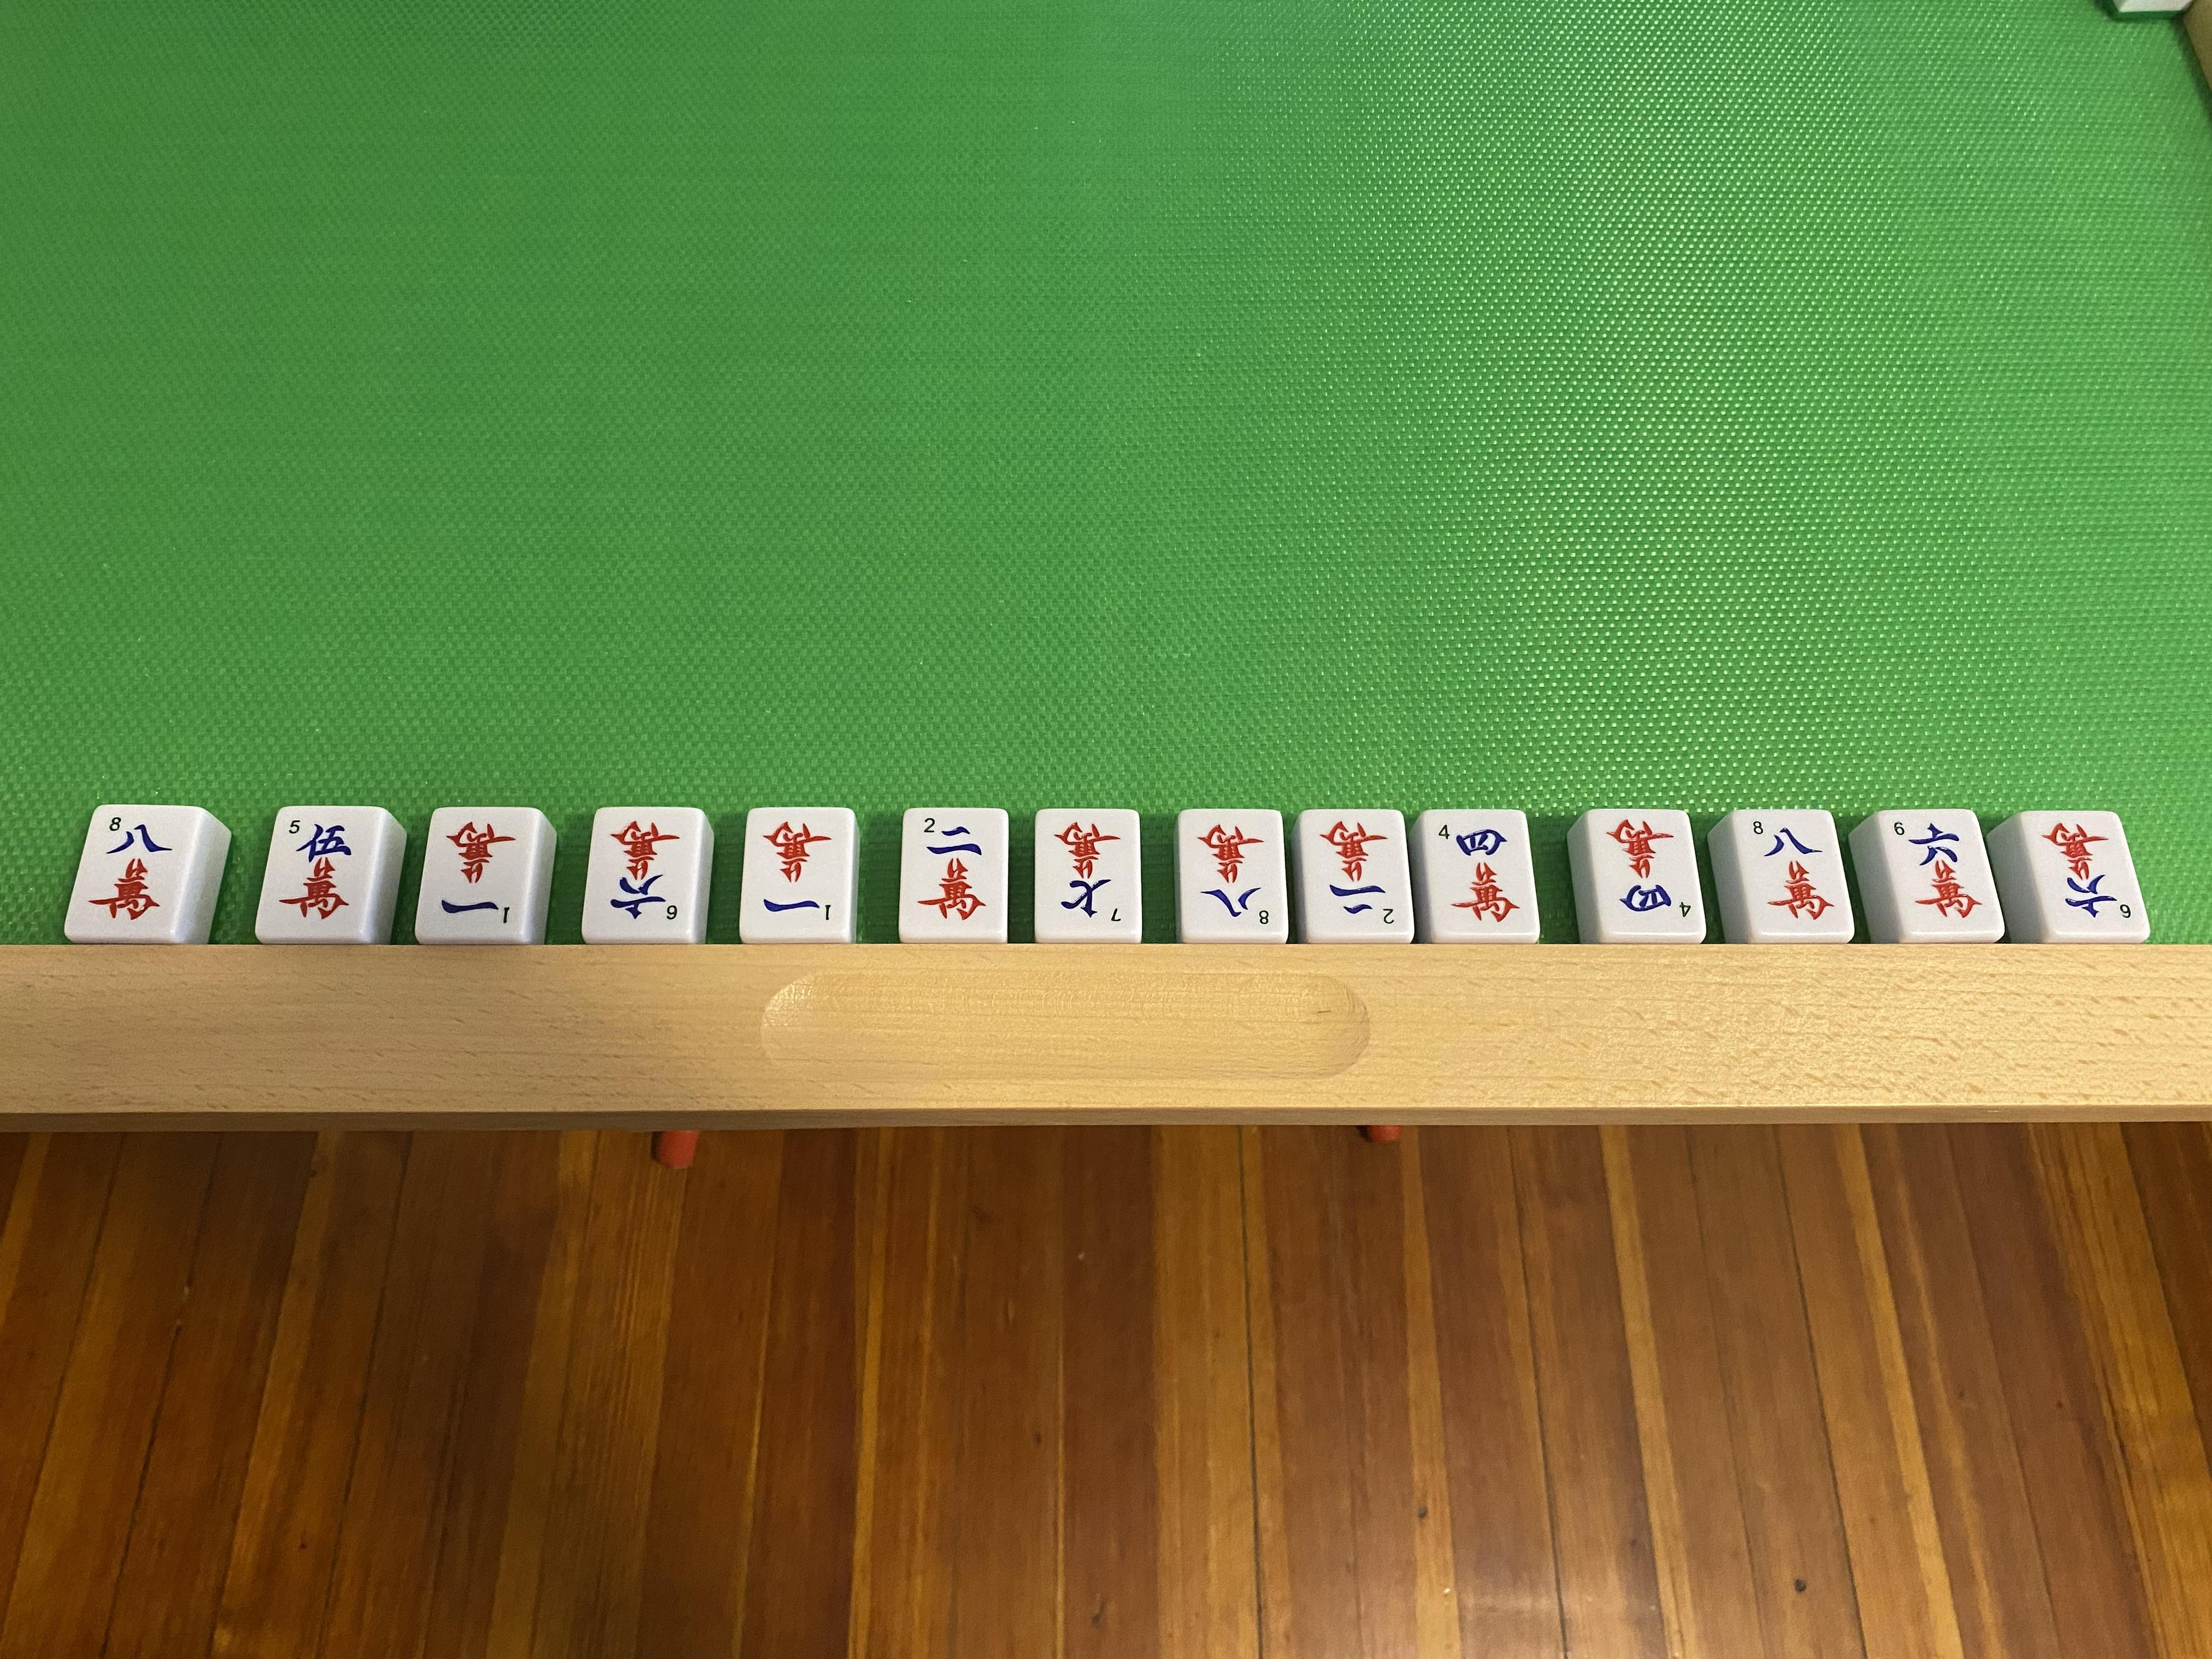character-eight: (1749, 816, 1838, 932), (1191, 816, 1277, 934), (94, 812, 174, 929)
character-five: (275, 812, 357, 927)
character-four: (1435, 810, 1527, 936), (1601, 819, 1691, 927)
character-one: (432, 814, 521, 939), (754, 817, 840, 929)
character-seven: (1042, 816, 1132, 931)
character-six: (594, 812, 690, 932), (2036, 817, 2134, 931), (1892, 816, 1980, 931)
character-two: (1310, 812, 1402, 936), (914, 814, 995, 929)
